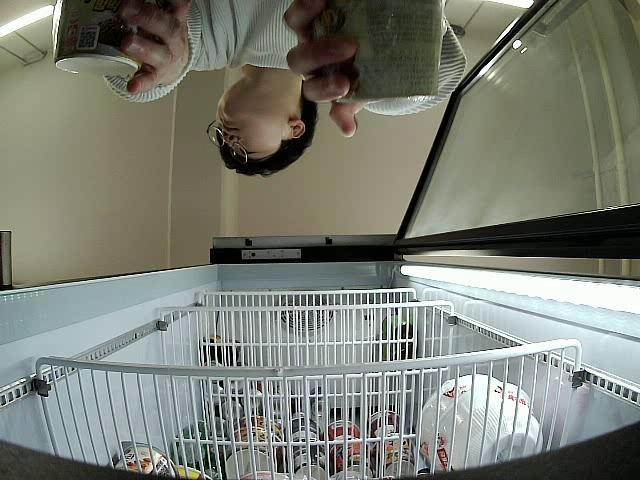04_chapagetti_S: (348, 0, 447, 119), (53, 0, 139, 78)
